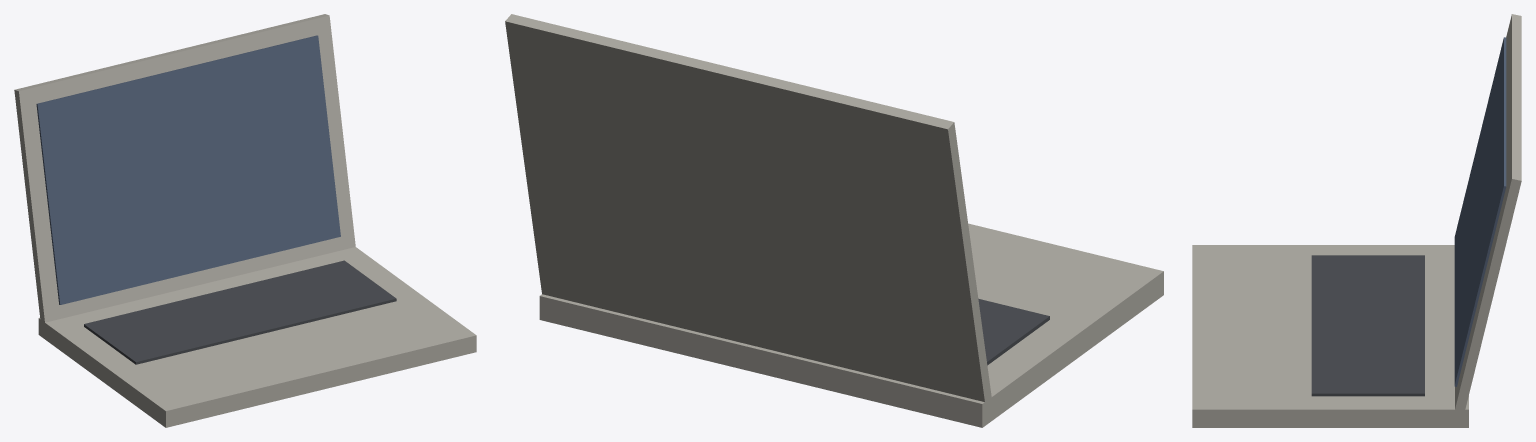
File: laptop.glb
3 renders of one model, left to right at view 1: azimuth 30°, elevation 25°; view 2: azimuth 150°, elevation 25°; view 3: azimuth 270°, elevation 25°, orthographic. The views are drawn at different scales.
Parts seen in each view (by area): view 1: laptop; view 2: laptop; view 3: laptop.
Part boxes in pixels (x1=…): laptop: x1=14, y1=14, x2=476, y2=427; laptop: x1=505, y1=14, x2=1163, y2=427; laptop: x1=1192, y1=14, x2=1521, y2=427.
Bounding box in the file's own units: 0.31 × 0.2183 × 0.2618.
